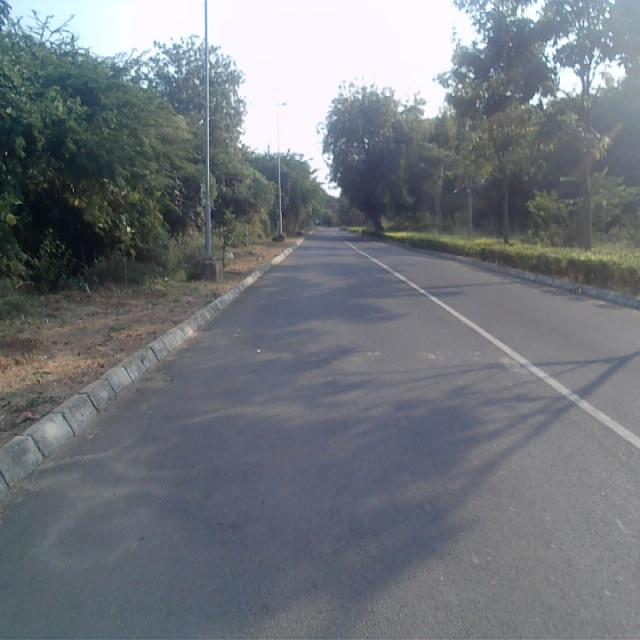lane: (0, 236, 639, 640)
